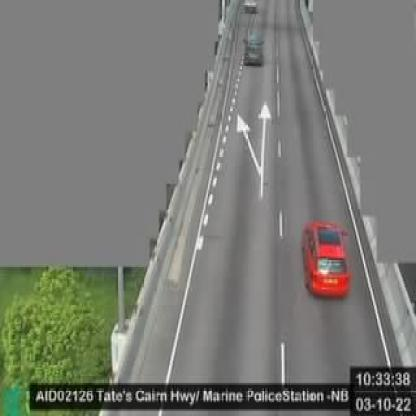Car: (303, 220, 350, 300), (242, 34, 265, 67)
